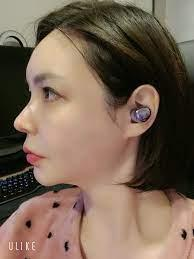earphone: (127, 100, 154, 131)
